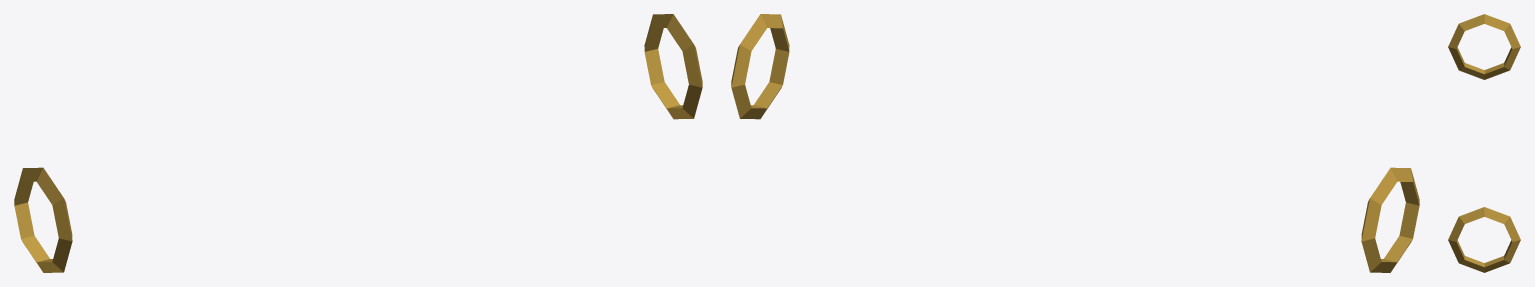
The model's file is acc-gold-hoops.high.df9a4071.glb.
The picture shows the model from 3 angles, left to right: view 1: azimuth 30°, elevation 25°; view 2: azimuth 150°, elevation 25°; view 3: azimuth 270°, elevation 25°; orthographic projection. The views are drawn at different scales.
Parts seen in each view (by area): view 1: acc-gold-hoops; view 2: acc-gold-hoops; view 3: acc-gold-hoops.
Part boxes in pixels (box(x1,y1,x2,y2)): acc-gold-hoops: box(14, 14, 702, 272); acc-gold-hoops: box(731, 14, 1419, 272); acc-gold-hoops: box(1448, 14, 1520, 272).
Size of the model in its own units: 1.06 by 0.166 by 0.166.
